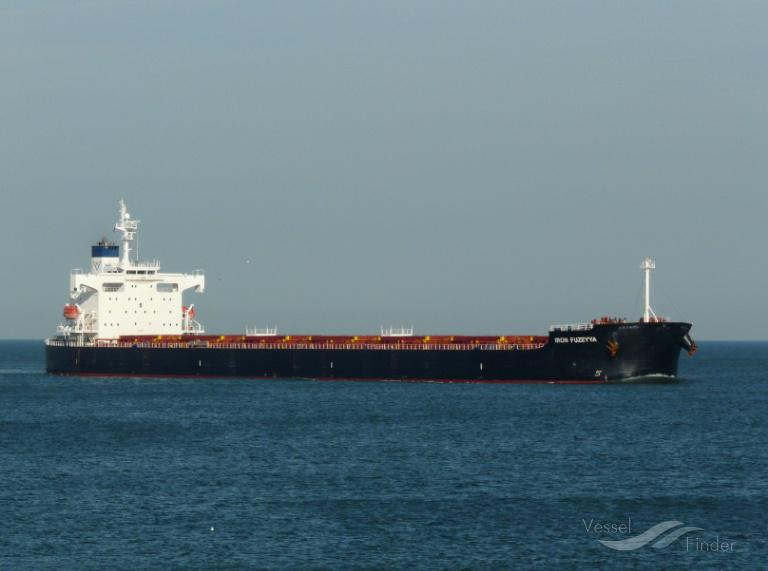OCR: (550, 331, 602, 352)
